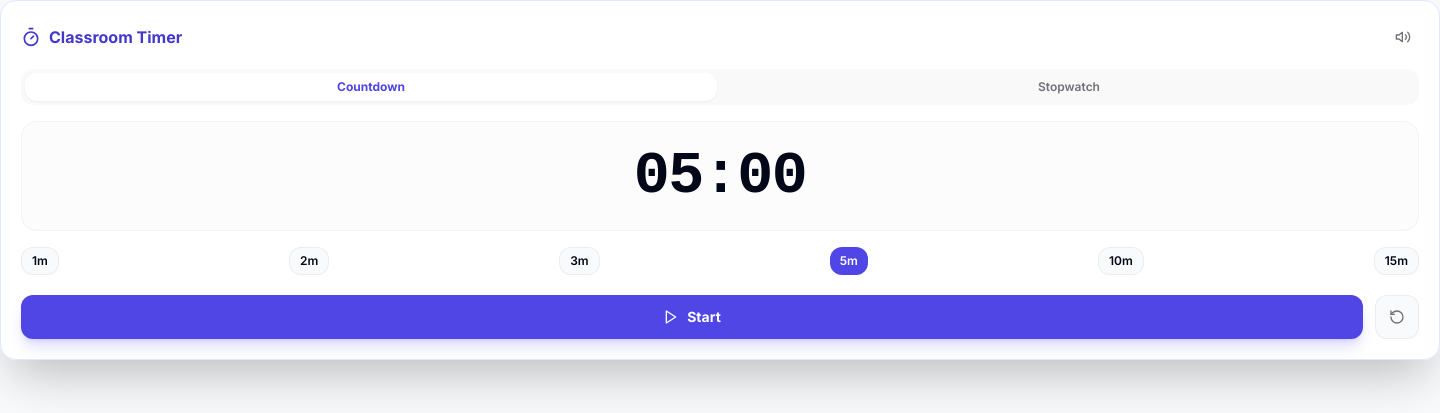
Test case: ClassroomTimer Component › allows switching to stopwatch mode
What coordinates should you click on to do the following:
click the button "Stopwatch"
I would click on:
 (1069, 87)
Its box is [723,73,1415,101].
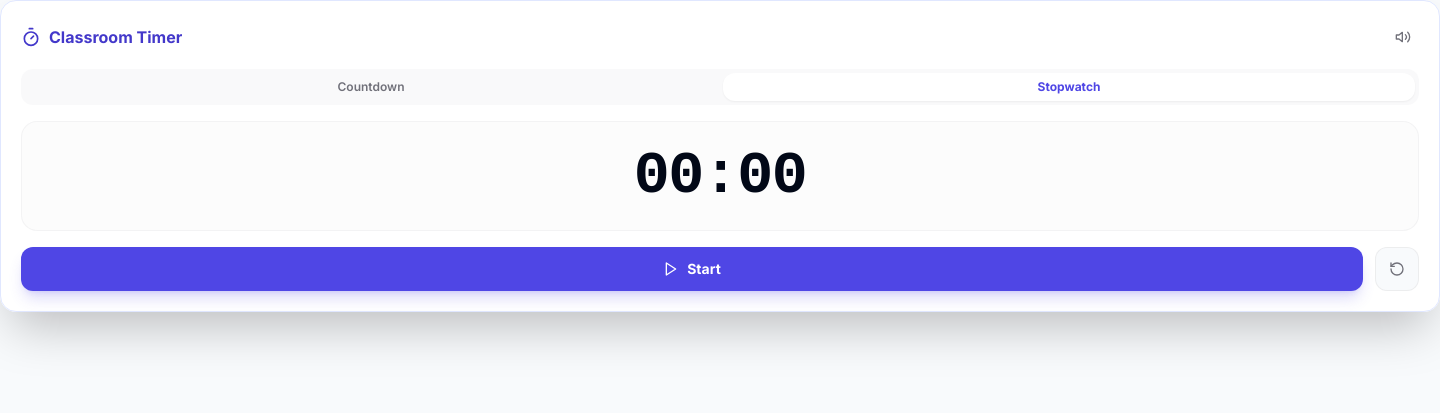
Result: the text "00:00" is shown at [634,146,806,206]
